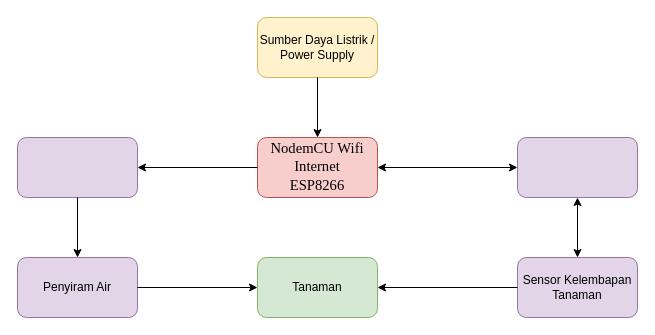
This 655x335 diagram has some shape labels left out. Each missing label, with the centre of its shape:
"Papan Ekstensi" belongs at point 577,167.
"Pompa Air" belongs at point 77,167.
